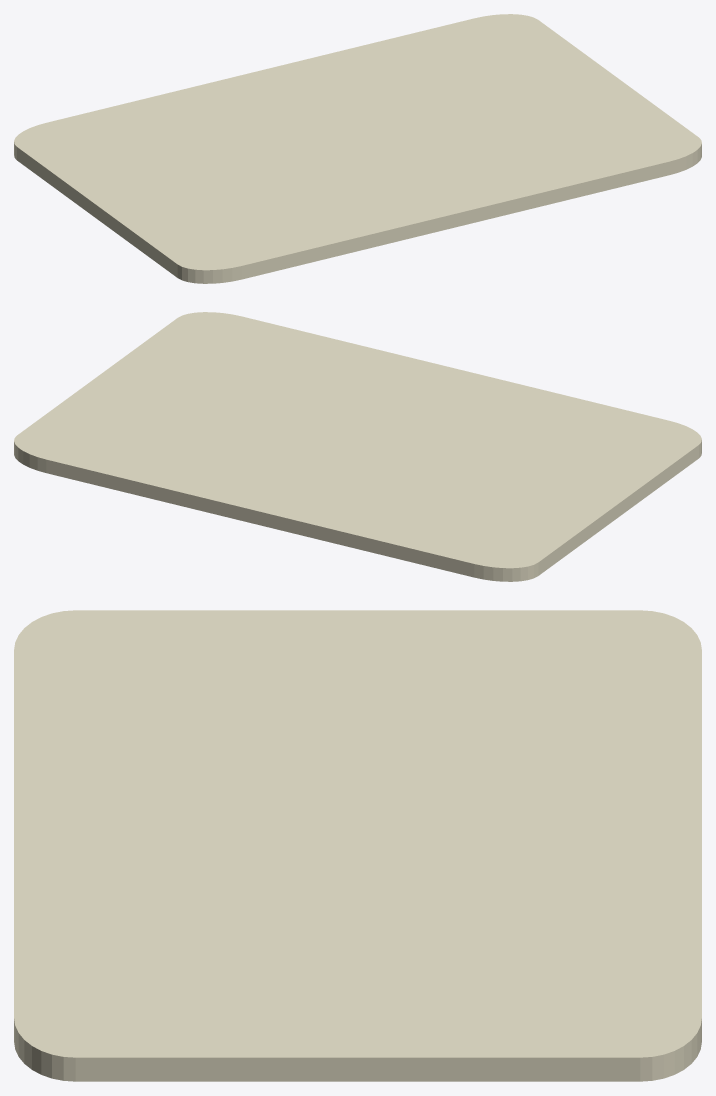
File: letter.fbx
3 renders of one model, top to bottom at view 1: azimuth 30°, elevation 25°; view 2: azimuth 150°, elevation 25°; view 3: azimuth 270°, elevation 25°, orthographic. The views are drawn at different scales.
Visible parts, largest first — view 1: letter; view 2: letter; view 3: letter.
Boxes of the visible parts, box(x1,y1,x2,y2) form: letter: box(14, 14, 701, 283); letter: box(14, 312, 701, 581); letter: box(14, 610, 701, 1081).
Bounding box in the file's own units: 40 × 1 × 26.
